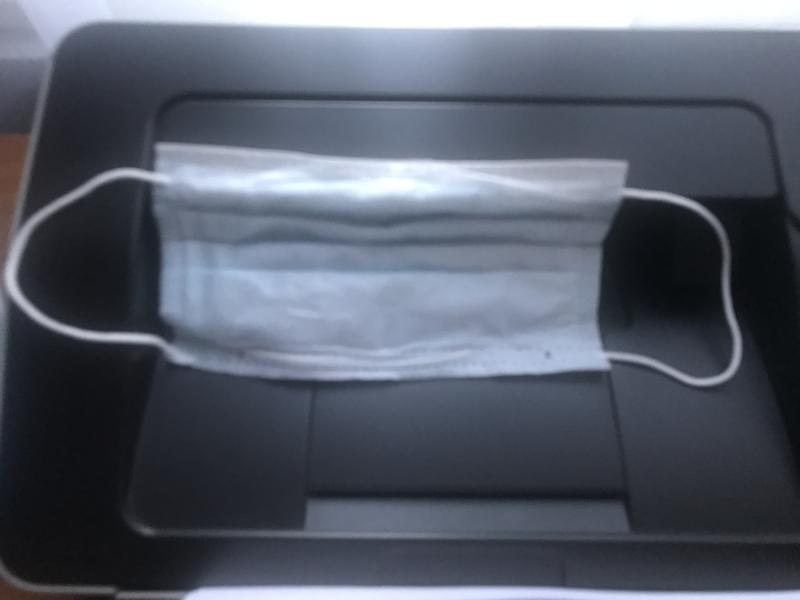medical_mask: (9, 140, 742, 390)
